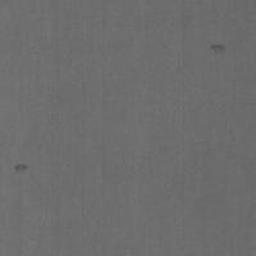Inclusion: (210, 44, 225, 54), (14, 164, 28, 172)
